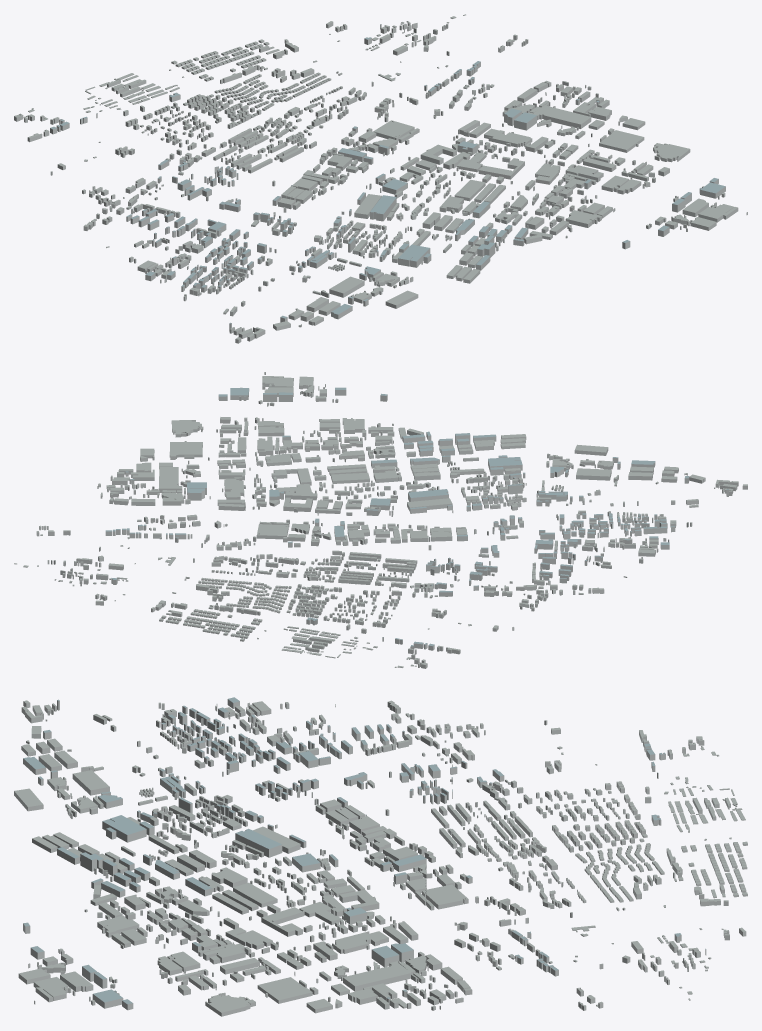
Rendered from far.glb.
The picture shows the model from 3 angles, top to bottom: view 1: azimuth 30°, elevation 25°; view 2: azimuth 150°, elevation 25°; view 3: azimuth 270°, elevation 25°; orthographic projection. The views are drawn at different scales.
Bounding box in the file's own units: 2162 × 37.36 × 2139.
